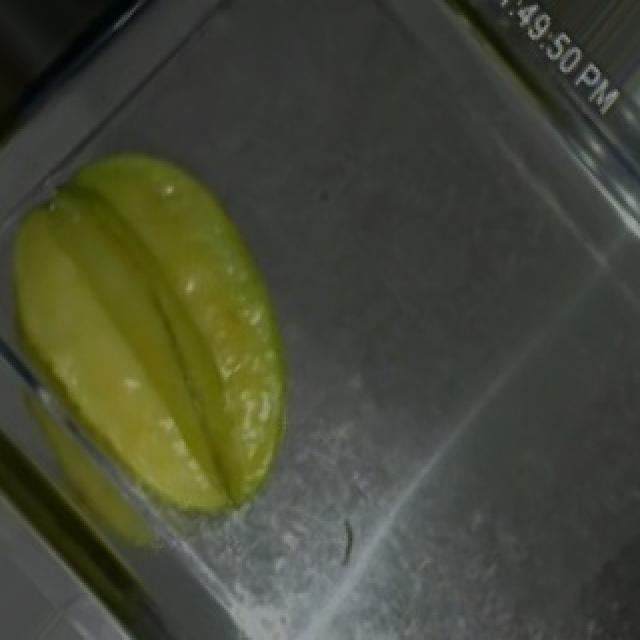fruit: (0, 97, 378, 548)
